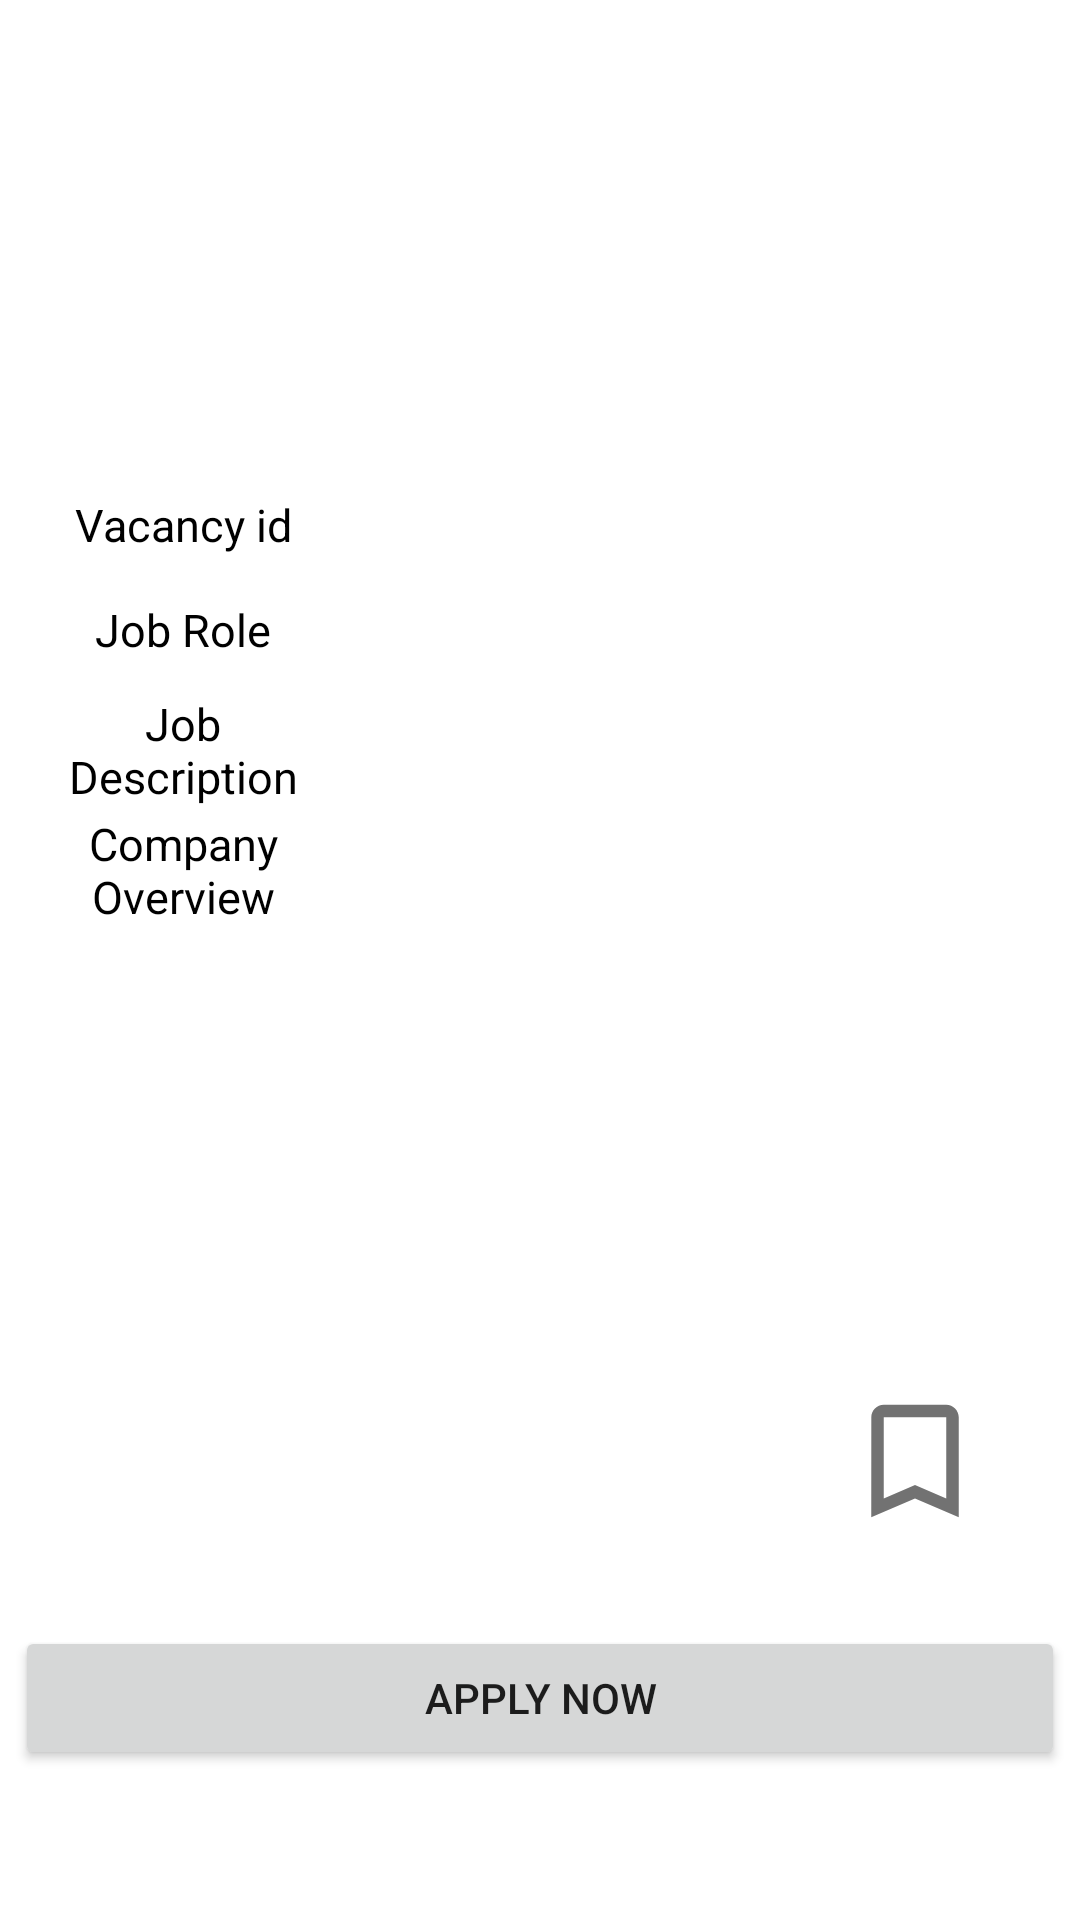

Point at icon controls on the screen. Image size 1080w x 1920h, points as point (x, y).
wishlist item: point (915, 1460)
